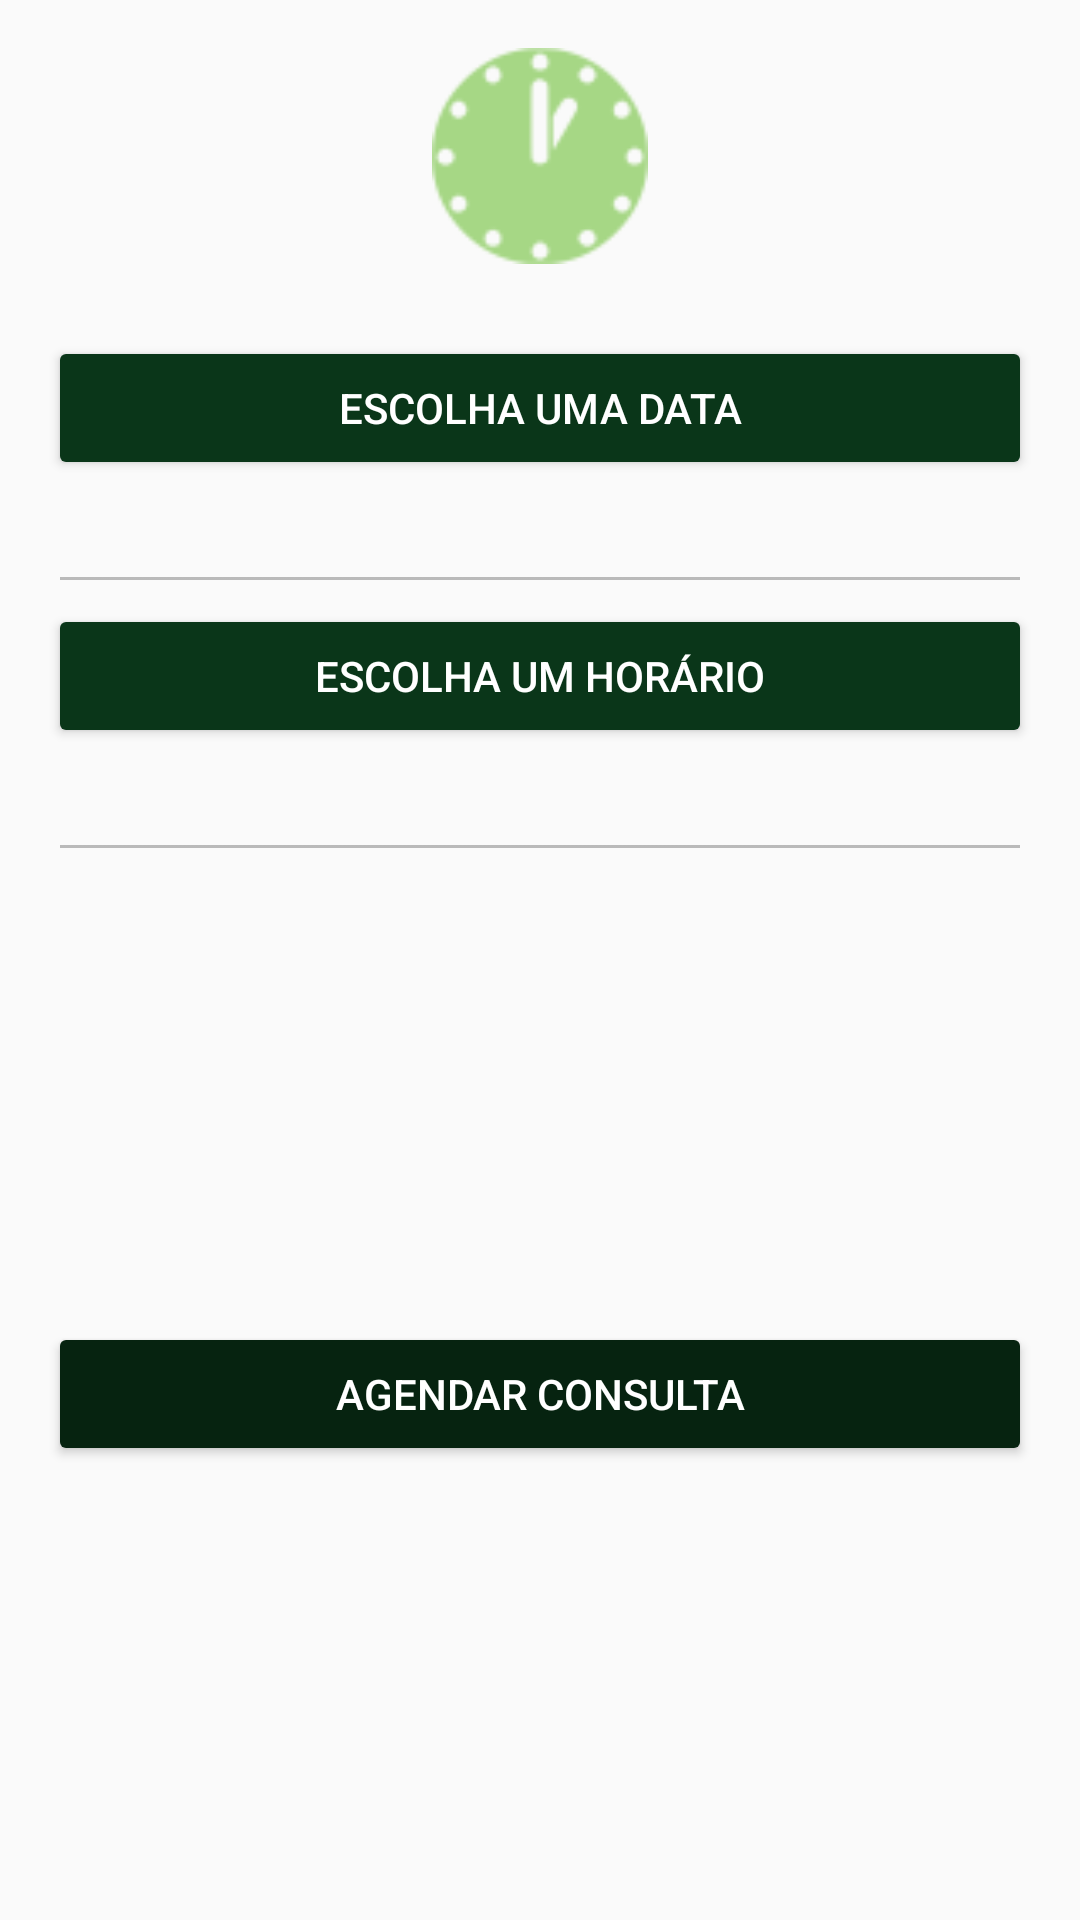

Point at icon controls on the screen. Image size 1080×1920, points as (x=x, y=y).
despertador: (x=540, y=156)
